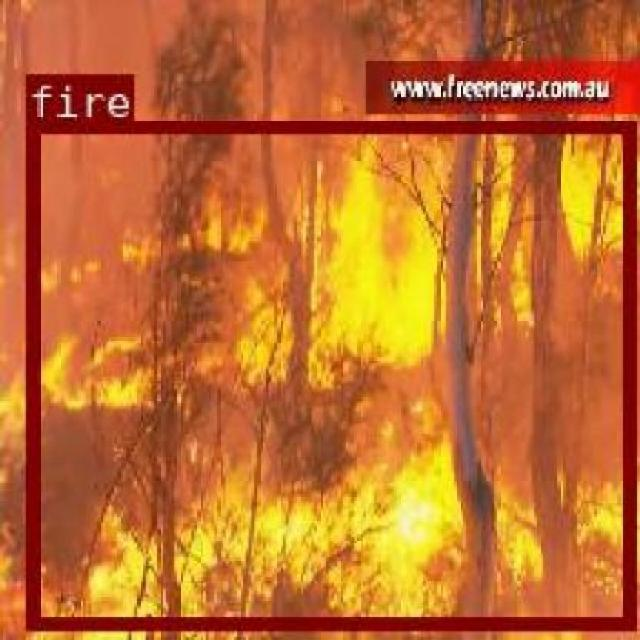fire: (24, 119, 632, 627)
